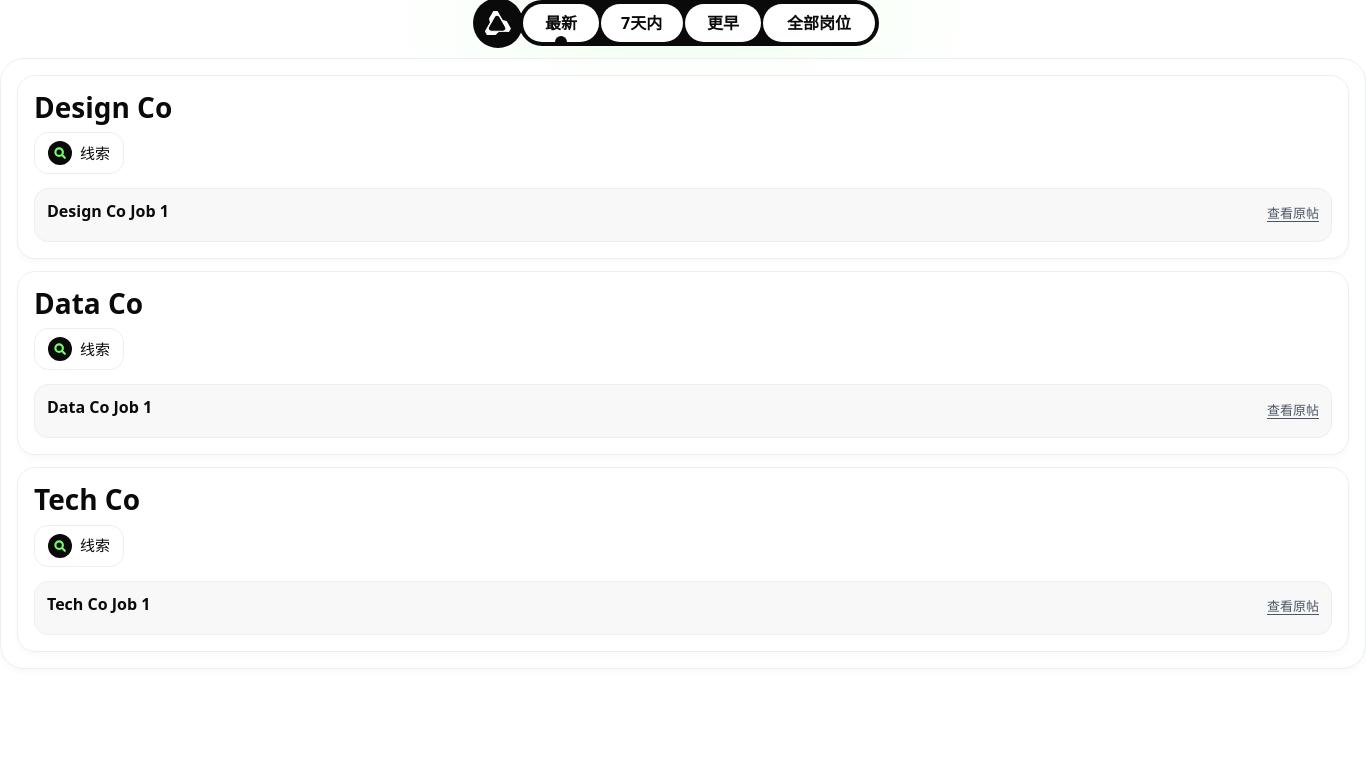
CompanyFeedTimeline › allows selecting multiple categories from the same filter panel
This screenshot has width=1366, height=768.
Click the button "全部岗位" at (819, 23), box [763,4,875,42]
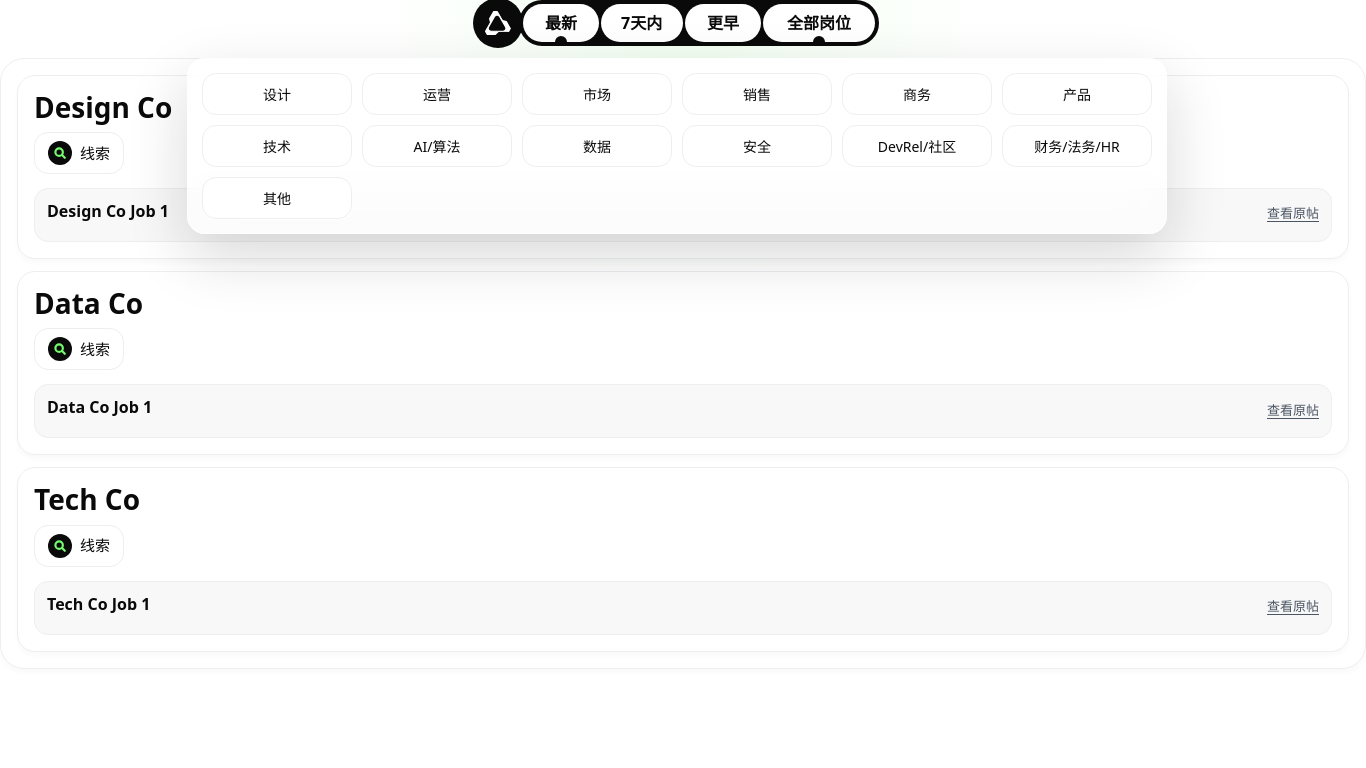
Click the button "设计" at (277, 94), box [202,73,352,115]
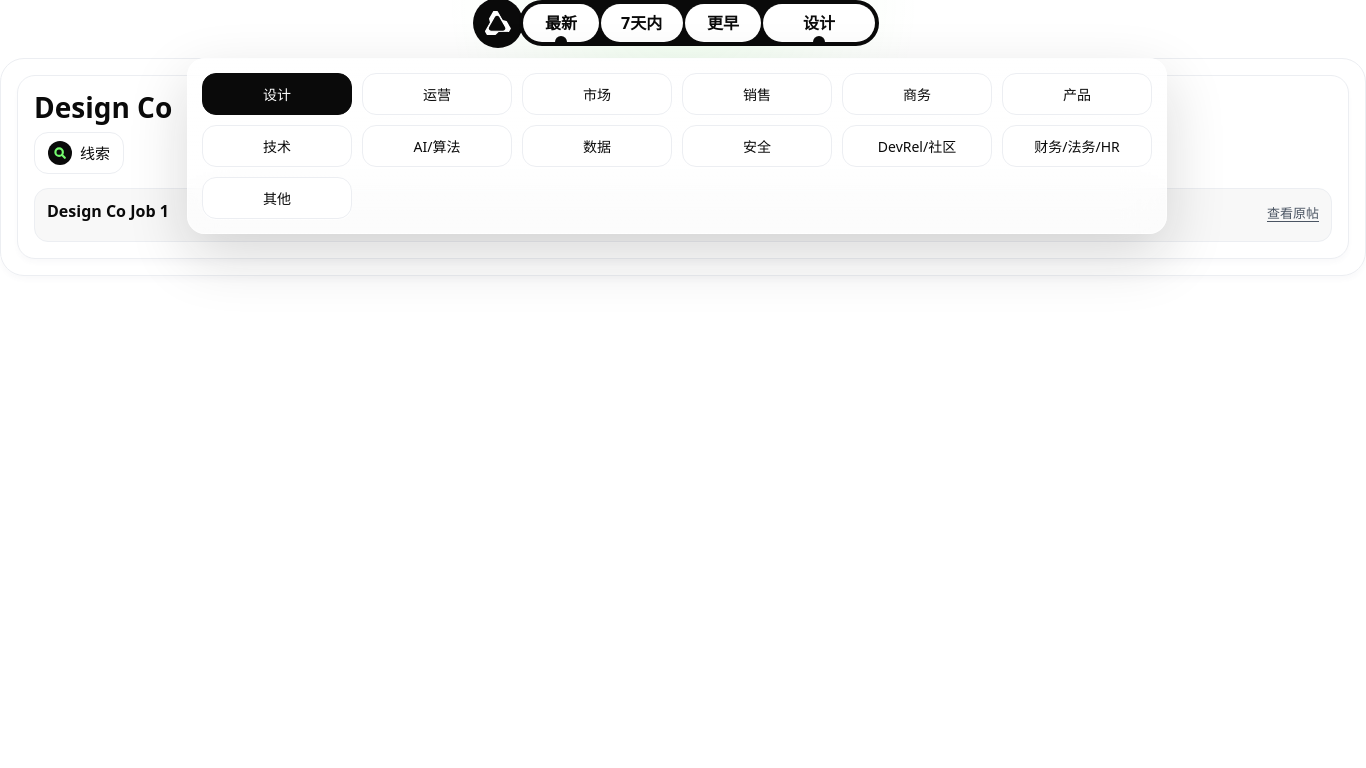
Click the button "数据" at (597, 146), box [522,125,672,167]
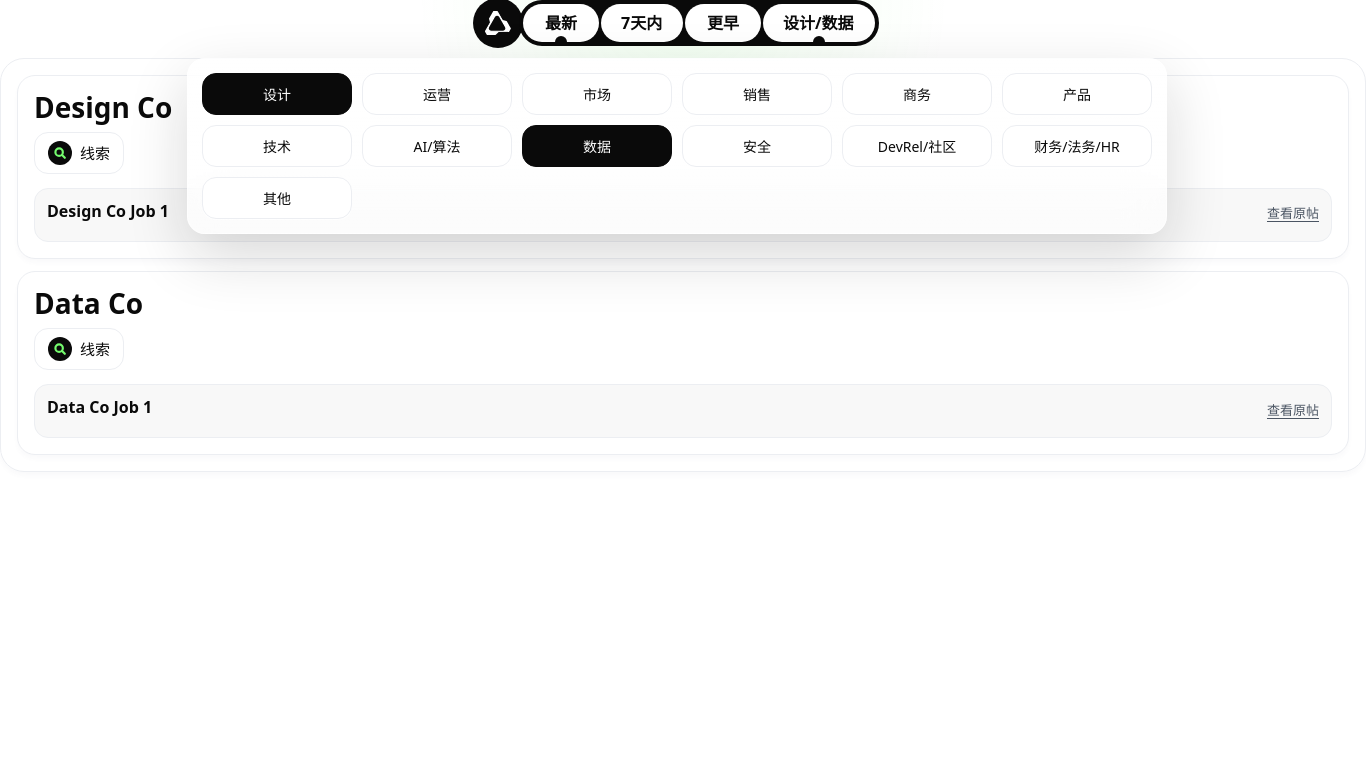
Expected: the heading "Design Co" is shown, [34,88,172,126]
Expected: the button "设计/数据" is shown, [763,4,875,42]
Expected: the heading "Data Co" is shown, [34,284,143,322]
